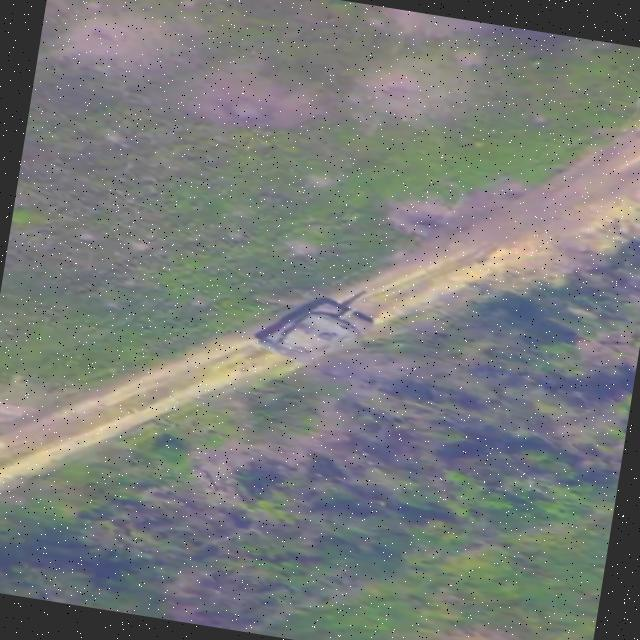MBT: (250, 276, 385, 376)
